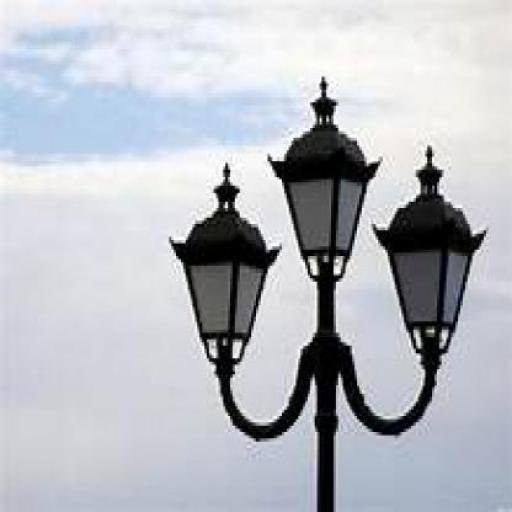street light: (169, 78, 488, 510)
